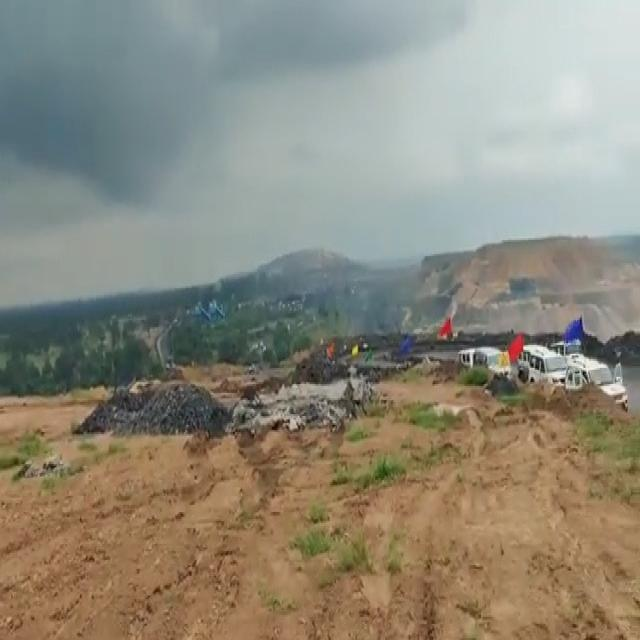light_vehicle: (570, 360, 624, 390), (477, 346, 507, 375), (534, 352, 562, 382), (522, 345, 527, 375)
